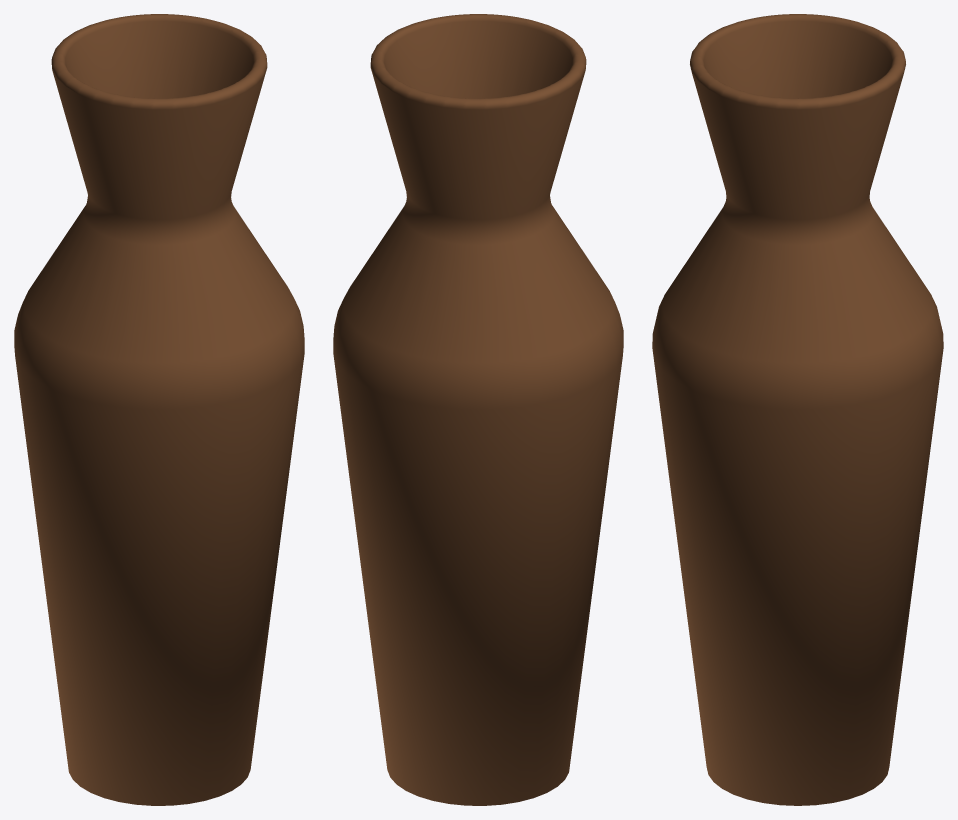
The model's file is Vaza 2.fbx.
3 views of the same model, side by side, from view 1: azimuth 30°, elevation 25°; view 2: azimuth 150°, elevation 25°; view 3: azimuth 270°, elevation 25° (orthographic).
Visible parts, largest first — view 1: Vaza2; view 2: Vaza2; view 3: Vaza2.
Part boxes in pixels (x1=…): Vaza2: x1=14, y1=14, x2=304, y2=805; Vaza2: x1=333, y1=14, x2=623, y2=805; Vaza2: x1=652, y1=14, x2=943, y2=805.
Size of the model in its own units: 0.1536 by 0.4133 by 0.1536.
